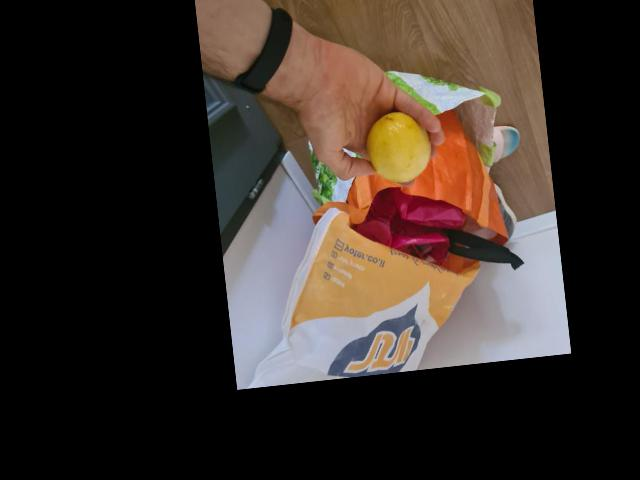lemon: (364, 106, 428, 186)
